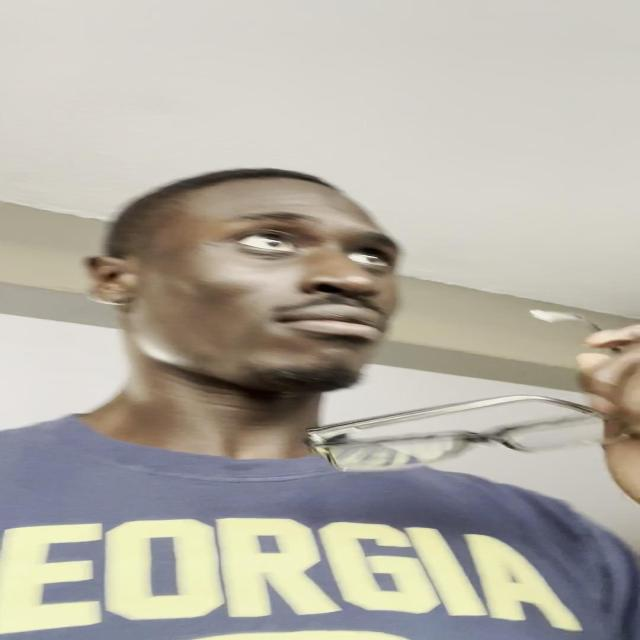NO-Mask: (108, 176, 416, 406)
